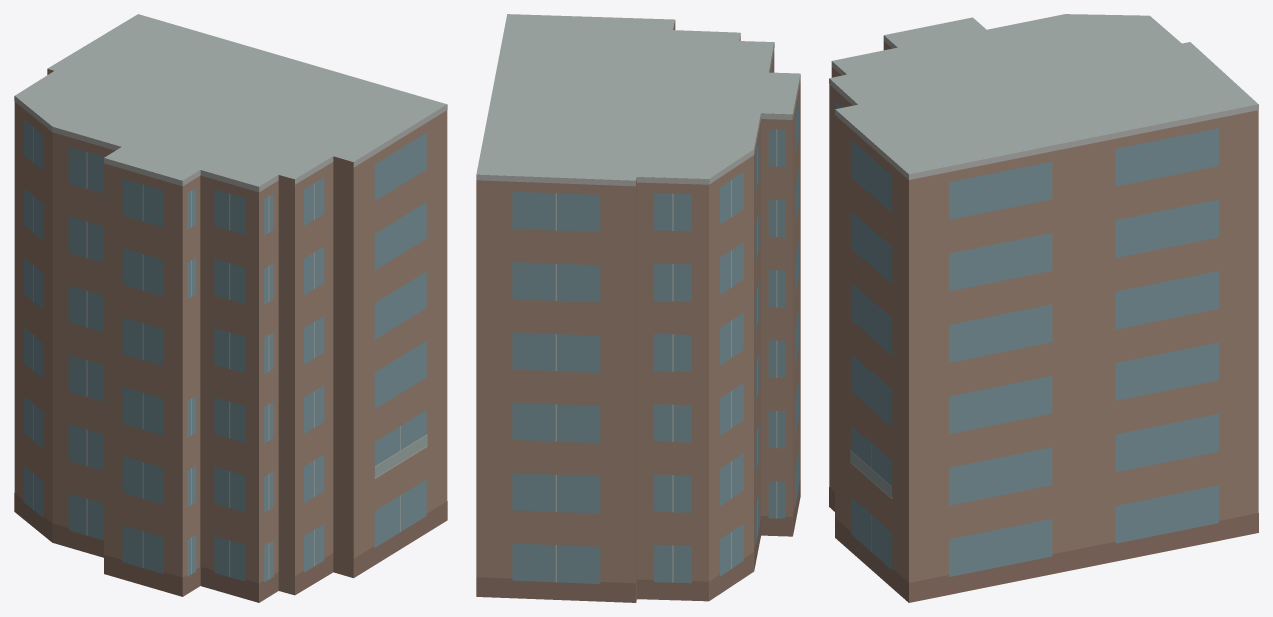
File: survey-upis-32759046.glb
The picture shows the model from 3 angles, left to right: view 1: azimuth 30°, elevation 25°; view 2: azimuth 150°, elevation 25°; view 3: azimuth 270°, elevation 25°; orthographic projection. The views are drawn at different scales.
Parts seen in each view (by area): view 1: survey-upis-32759046.tmp; view 2: survey-upis-32759046.tmp; view 3: survey-upis-32759046.tmp.
Boxes of the visible parts, left/top/right/bottom form: survey-upis-32759046.tmp: left=14, top=14, right=447, bottom=602; survey-upis-32759046.tmp: left=476, top=14, right=800, bottom=602; survey-upis-32759046.tmp: left=829, top=14, right=1258, bottom=602.
Size of the model in its own units: 14.7 by 18.3 by 16.64.
